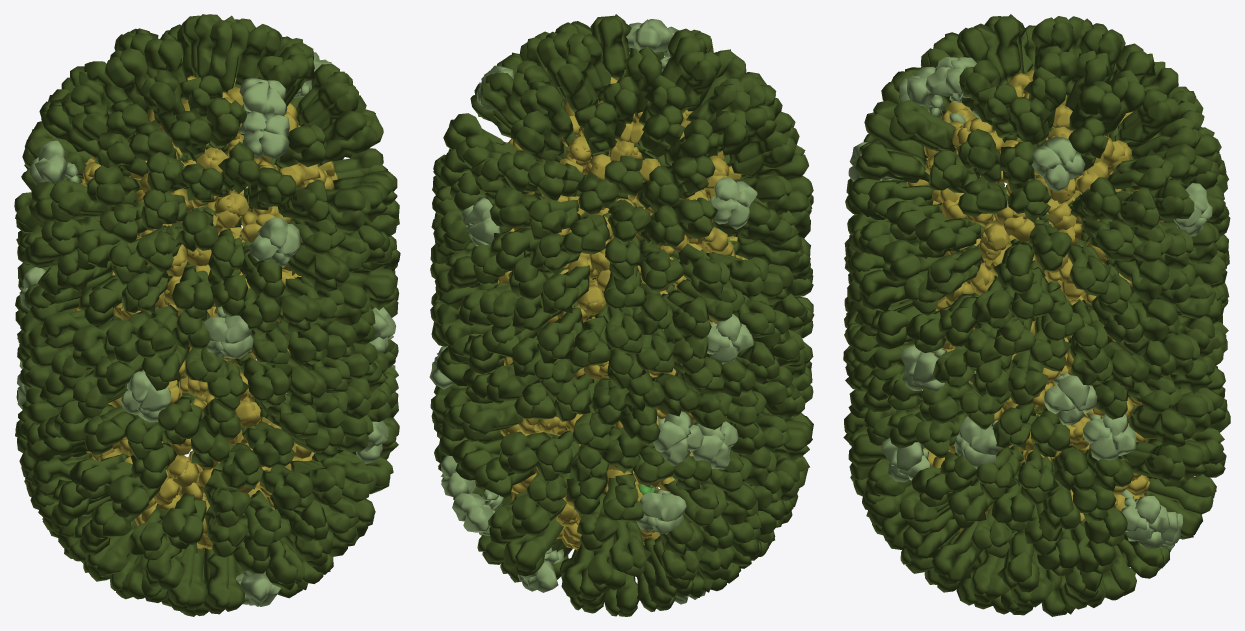
File: molstar-model(4).glb
3 renders of one model, left to right at view 1: azimuth 30°, elevation 25°; view 2: azimuth 150°, elevation 25°; view 3: azimuth 270°, elevation 25°, orthographic.
Size of the model in its own units: 911 by 1472 by 914.
